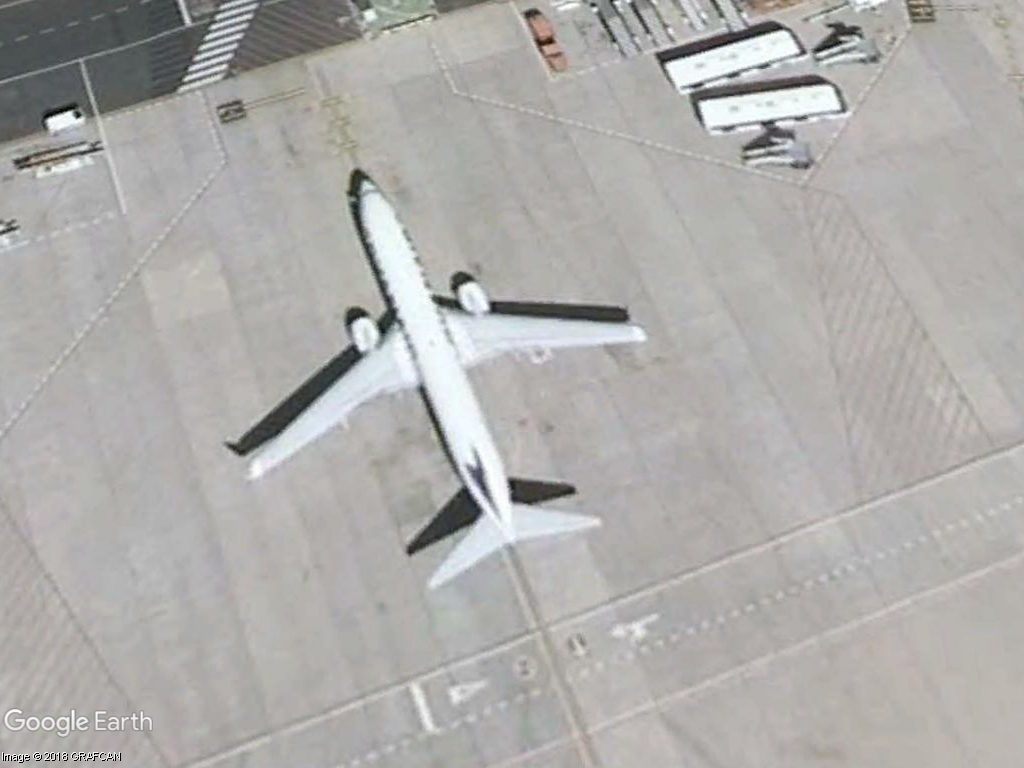airliner: (219, 169, 658, 607)
bus: (648, 24, 812, 94), (687, 77, 855, 137)
stairtruck: (737, 132, 819, 174), (812, 28, 886, 73)
